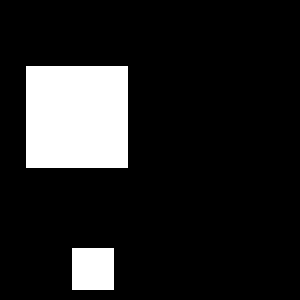circle: (26, 66, 128, 168), (72, 248, 114, 290)
